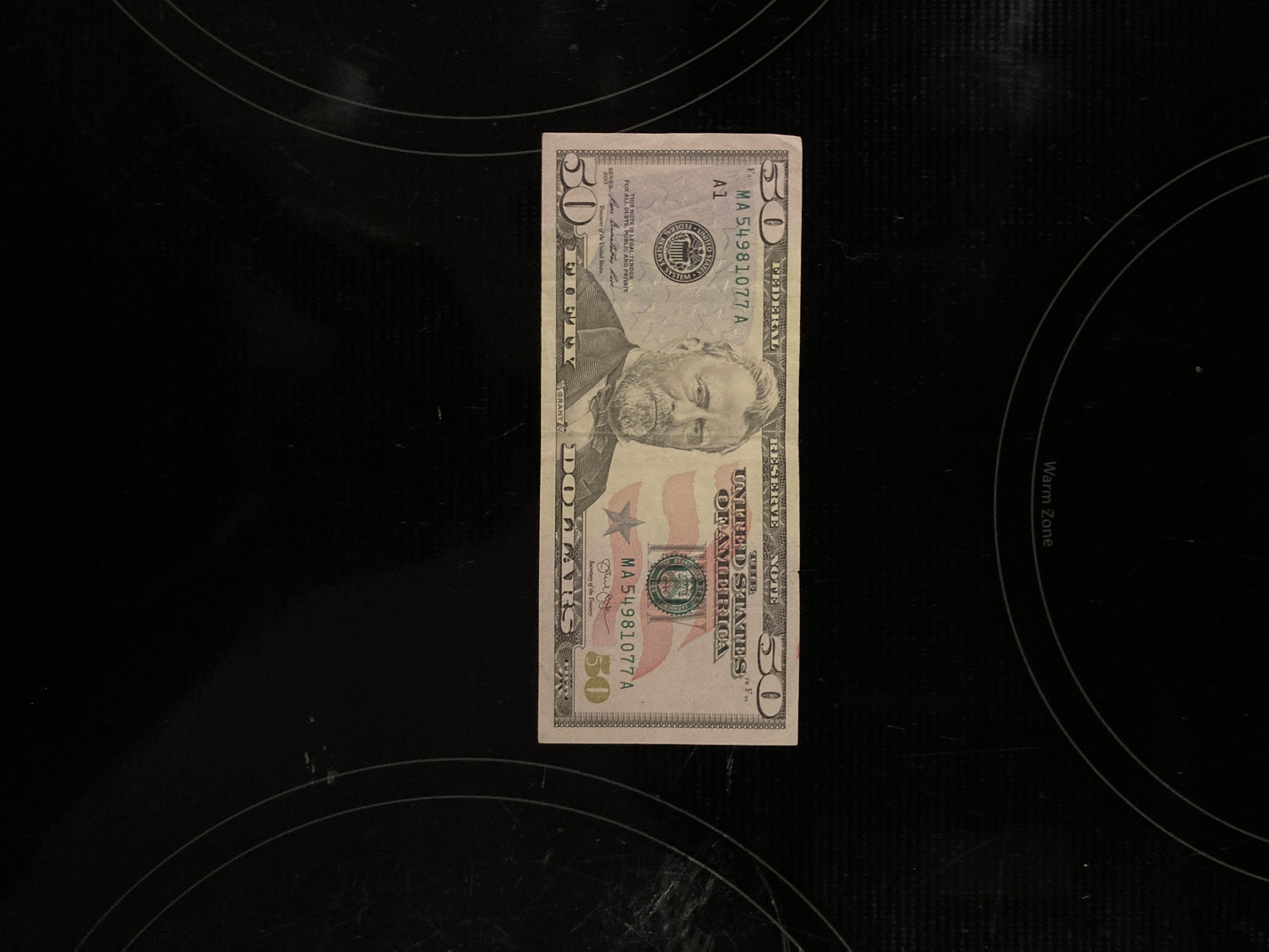fifty-front: (535, 130, 804, 746)
